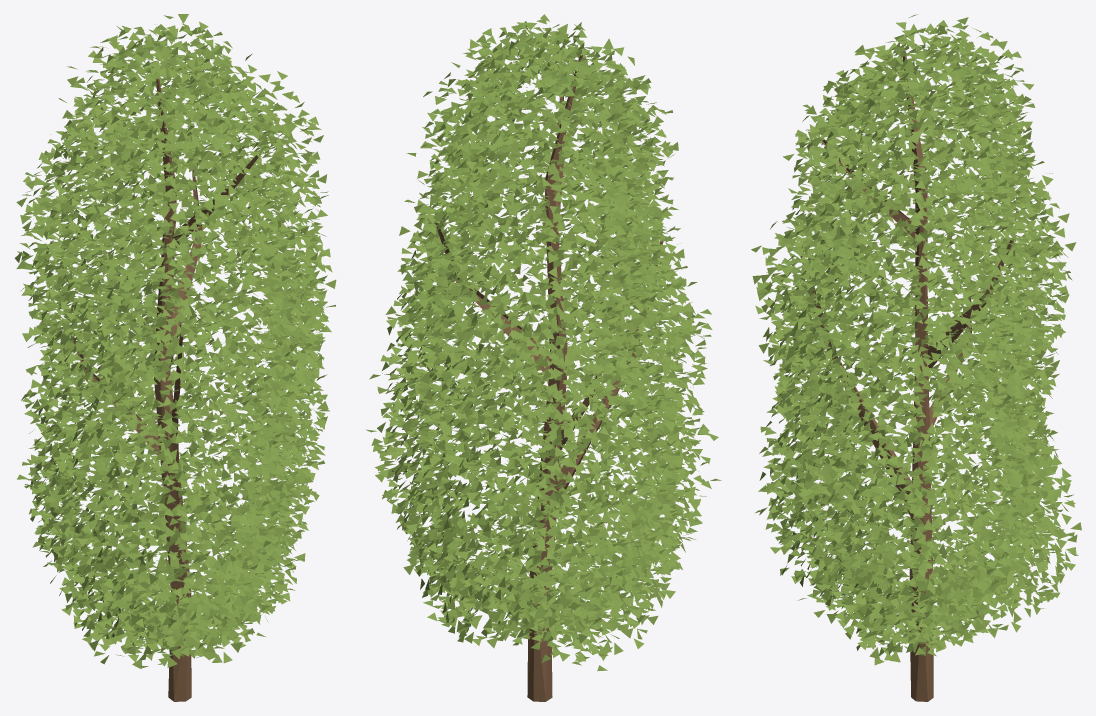
File: tree-poplar-1-1.glb
3 renders of one model, left to right at view 1: azimuth 30°, elevation 25°; view 2: azimuth 150°, elevation 25°; view 3: azimuth 270°, elevation 25°, orthographic.
Parts seen in each view (by area): view 1: tree/poplar@1/1; view 2: tree/poplar@1/1; view 3: tree/poplar@1/1.
Part boxes in pixels (x1,y1,x2,y2): tree/poplar@1/1: (14,14,336,701); tree/poplar@1/1: (366,14,721,701); tree/poplar@1/1: (751,14,1081,701).
Size of the model in its own units: 2834 by 6246 by 2817.
